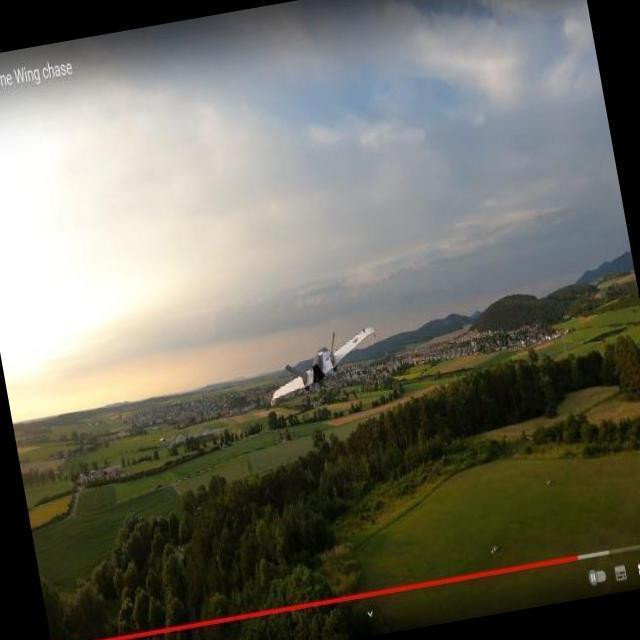iha: (250, 349, 381, 388)
